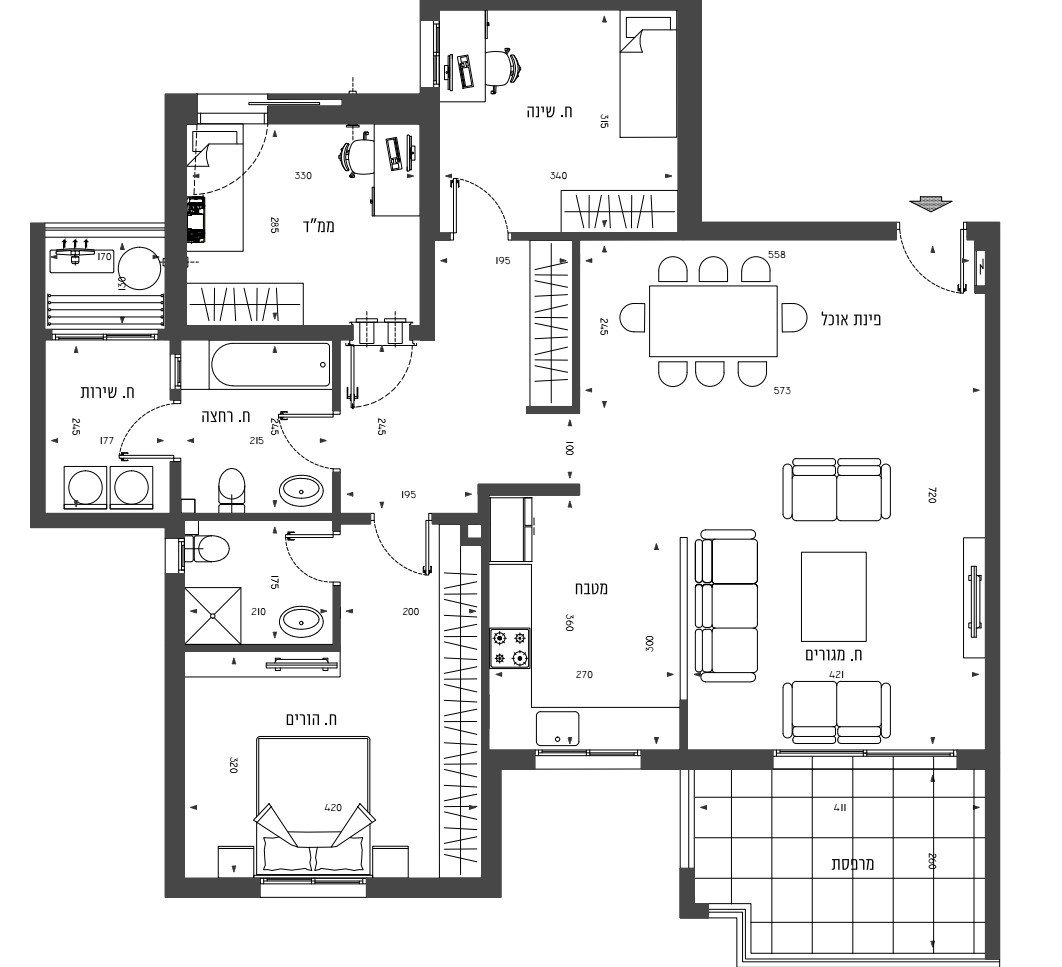door: (886, 240, 974, 313), (346, 355, 424, 418), (447, 157, 512, 228), (367, 529, 434, 596), (111, 396, 172, 463), (270, 404, 330, 470), (272, 528, 328, 593)
wall: (983, 224, 998, 961), (677, 5, 702, 224), (167, 580, 182, 896), (422, 89, 438, 335), (30, 225, 43, 522), (167, 97, 182, 331), (421, 1, 702, 11), (269, 106, 419, 123), (677, 225, 872, 238), (483, 751, 498, 900), (190, 327, 338, 339), (373, 880, 480, 895), (333, 326, 340, 402)
window: (771, 744, 958, 760), (535, 745, 641, 763), (260, 876, 367, 889), (429, 20, 443, 88), (177, 537, 186, 574), (173, 353, 182, 389)
